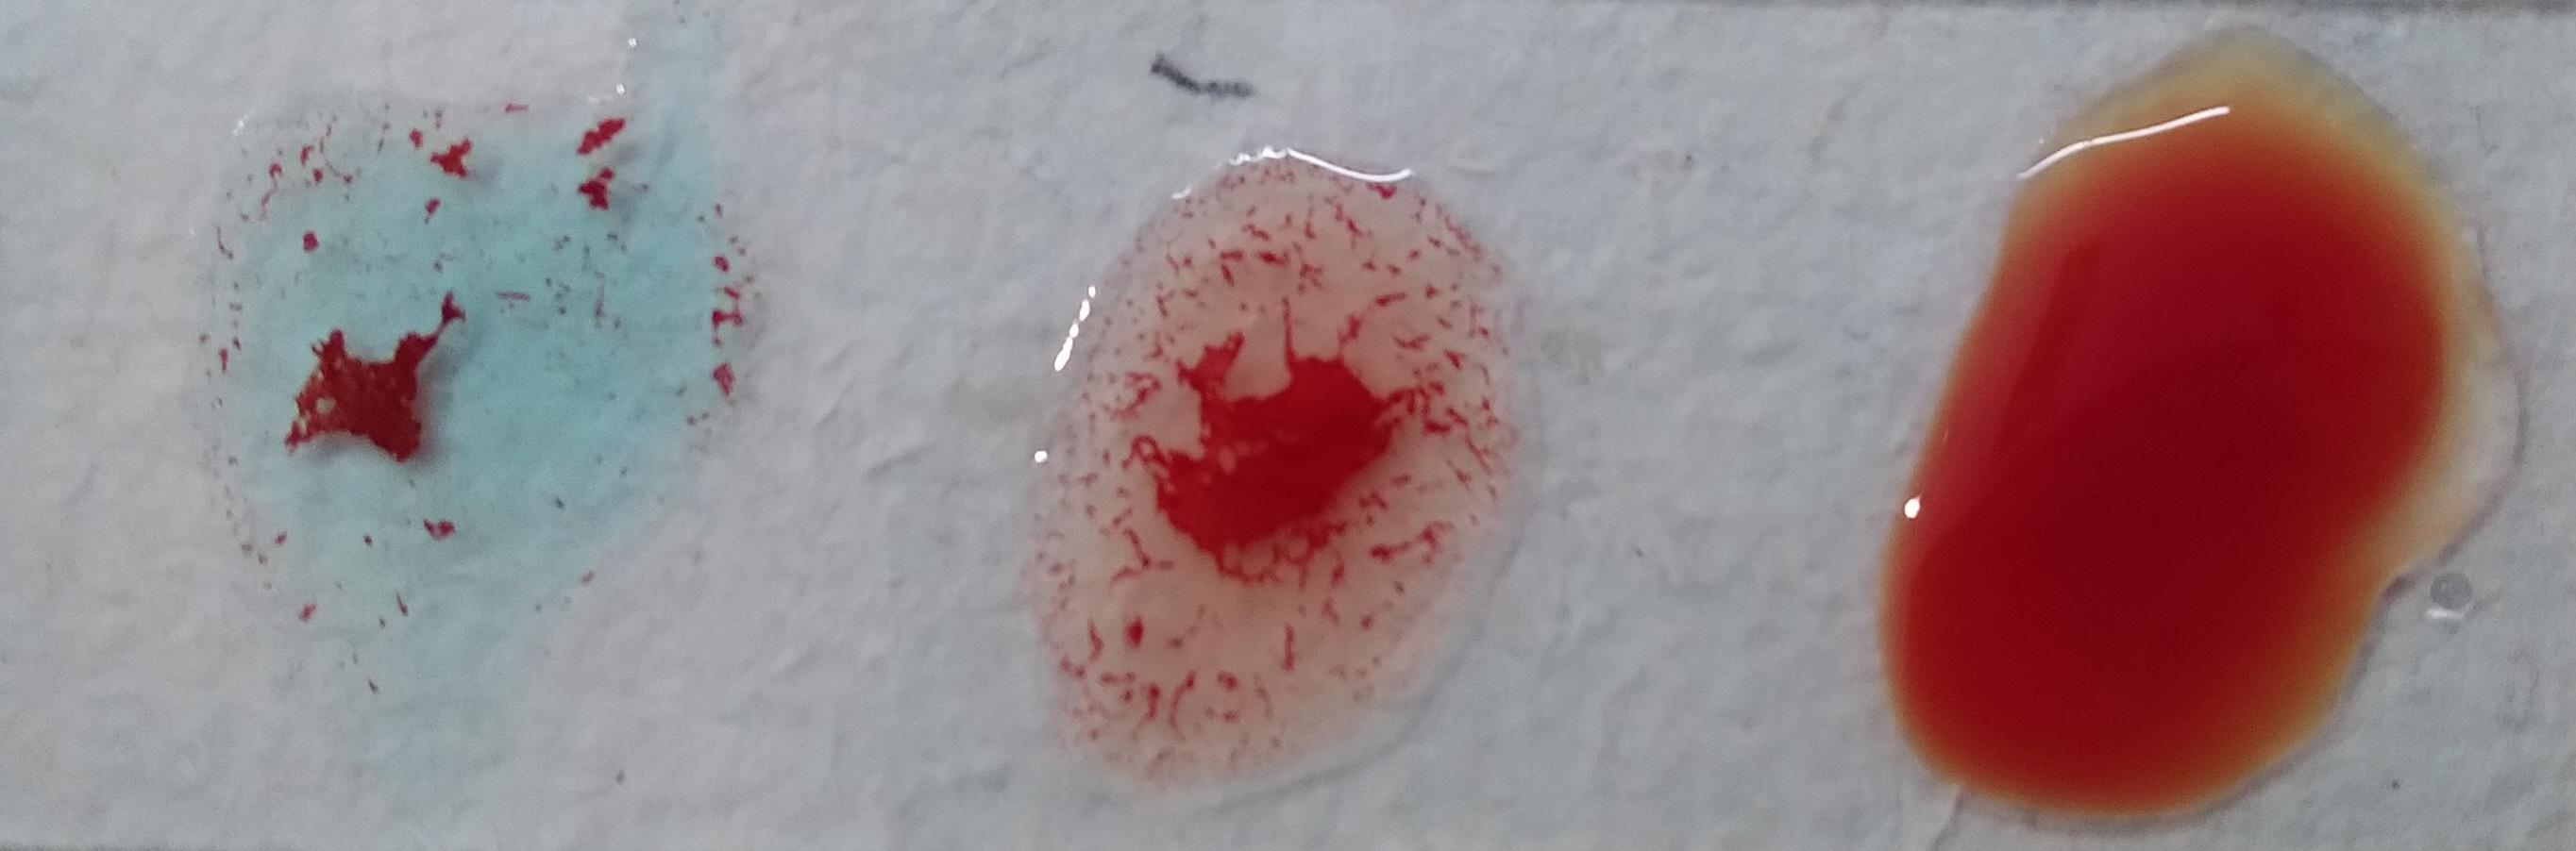A: (1843, 200, 2374, 757)
D: (1037, 59, 1556, 701)
